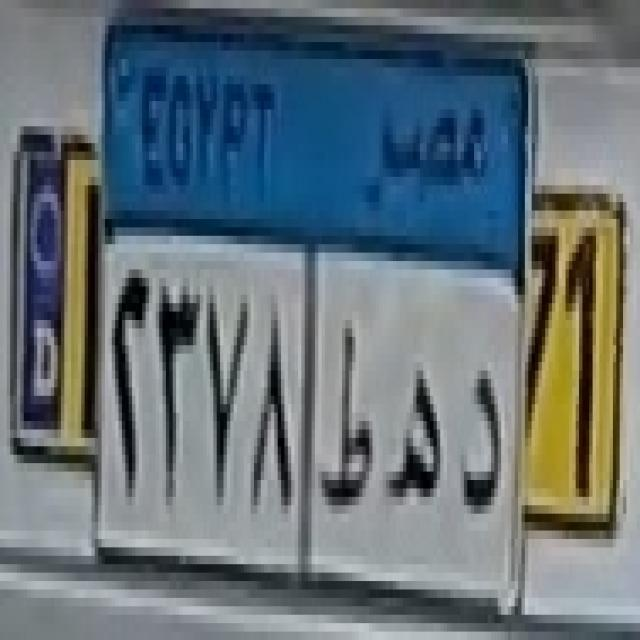2: (104, 262, 148, 506)
3: (153, 271, 208, 508)
7: (203, 290, 249, 514)
8: (248, 286, 300, 534)
Heeh: (384, 362, 452, 516)
Taa: (321, 326, 383, 522)
daal: (453, 353, 512, 524)
